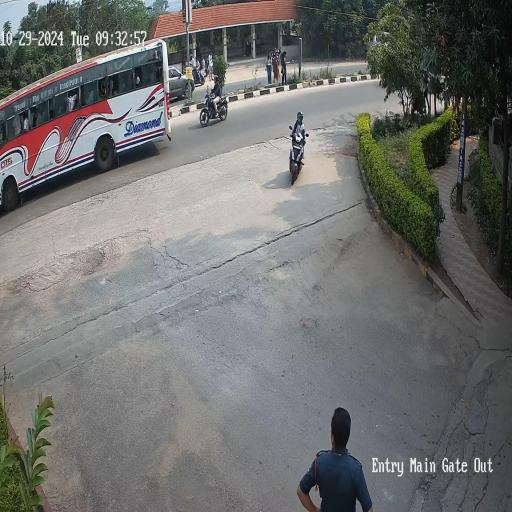no helmet: (289, 105, 317, 139)
triple riding: (194, 54, 206, 80)
